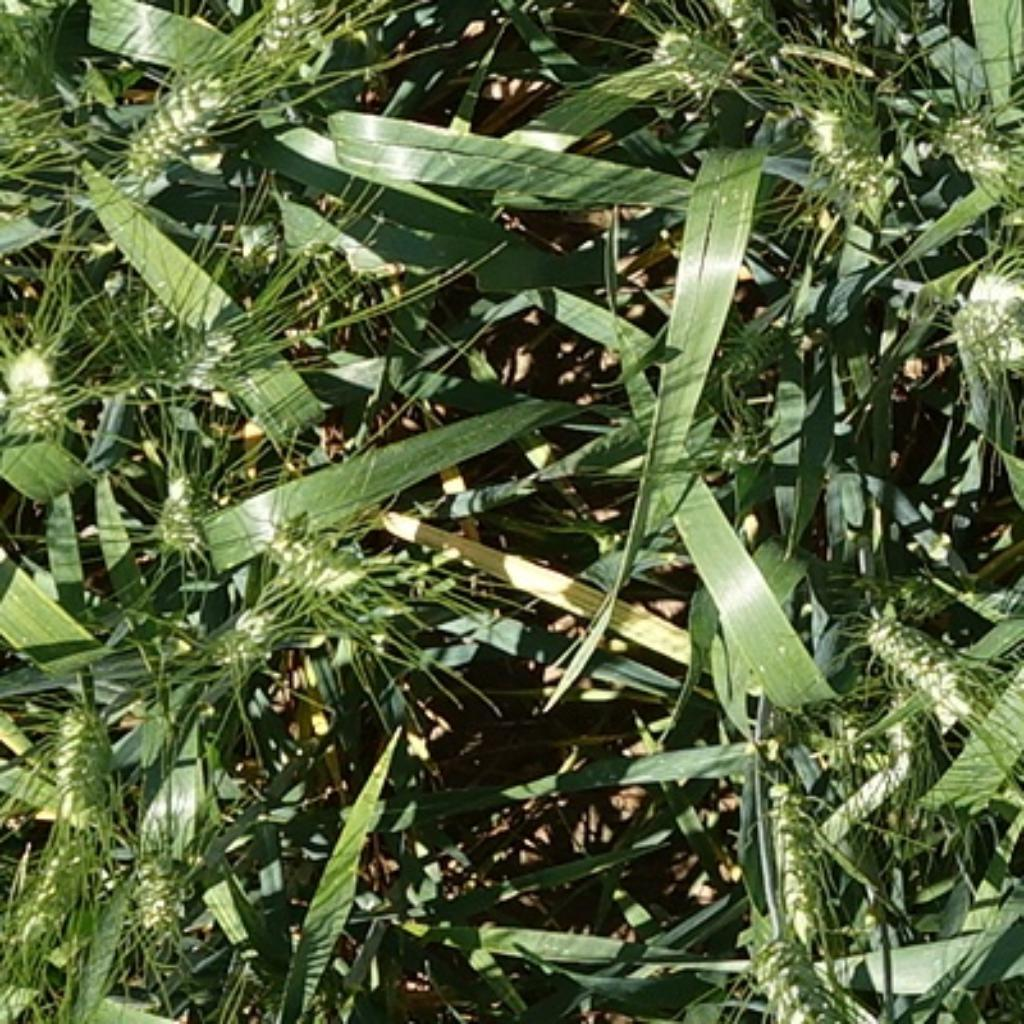0-0: (79, 279, 240, 394), (785, 71, 898, 204), (744, 770, 839, 926), (119, 59, 240, 181), (729, 916, 857, 1024), (5, 814, 107, 942), (117, 806, 215, 936), (860, 608, 974, 716), (258, 506, 378, 604), (936, 256, 1024, 381), (40, 688, 122, 819), (924, 87, 1024, 194), (642, 7, 744, 92), (0, 307, 65, 437), (189, 591, 286, 678), (693, 304, 783, 391), (145, 453, 217, 552), (240, 0, 337, 71), (701, 393, 778, 478), (217, 199, 296, 281), (682, 0, 796, 55), (870, 688, 939, 760)
